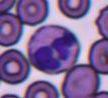N: (28, 24, 80, 74)
